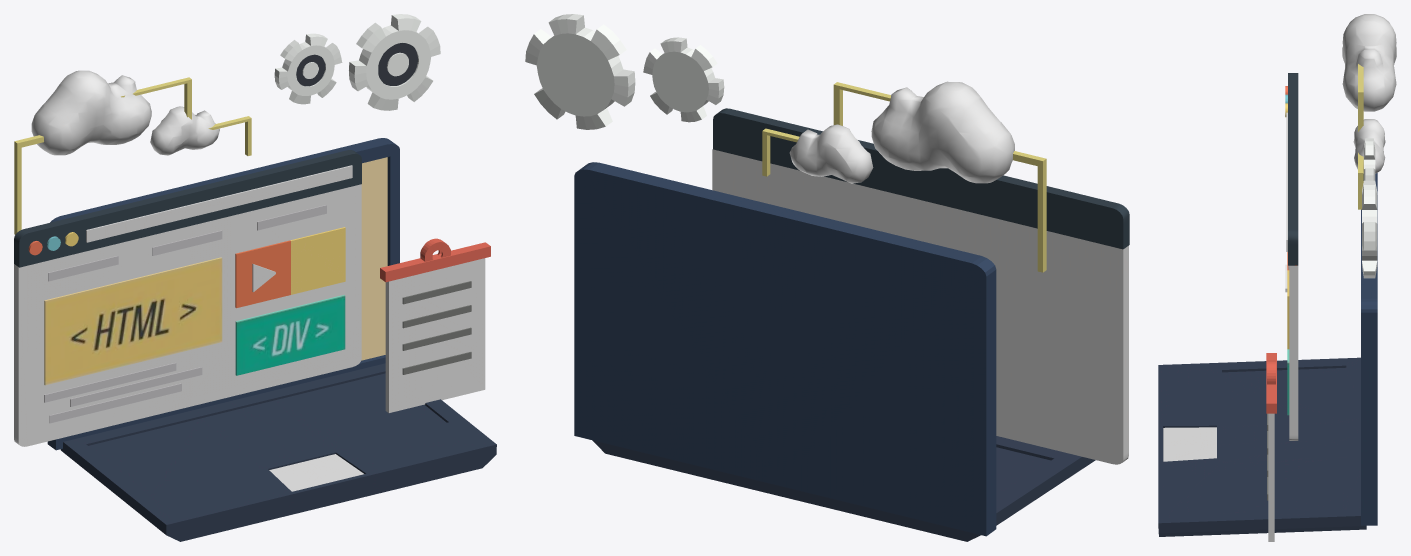
Rendered from designweb-transformed.glb.
3 views of the same model, side by side, from view 1: azimuth 30°, elevation 25°; view 2: azimuth 150°, elevation 25°; view 3: azimuth 270°, elevation 25° (orthographic). The views are drawn at different scales.
Visible parts, largest first — view 1: Cube_0, Cube.001_0; view 2: Cube_0; view 3: Cube_0.
Boxes of the visible parts, bbox=[...] form: Cube_0: bbox=[14, 14, 496, 541]; Cube.001_0: bbox=[44, 257, 345, 385]; Cube_0: bbox=[525, 14, 1129, 541]; Cube_0: bbox=[1158, 14, 1396, 541].
Size of the model in its own units: 7.92 by 6.38 by 3.62.
2 materials, 2 textured.
